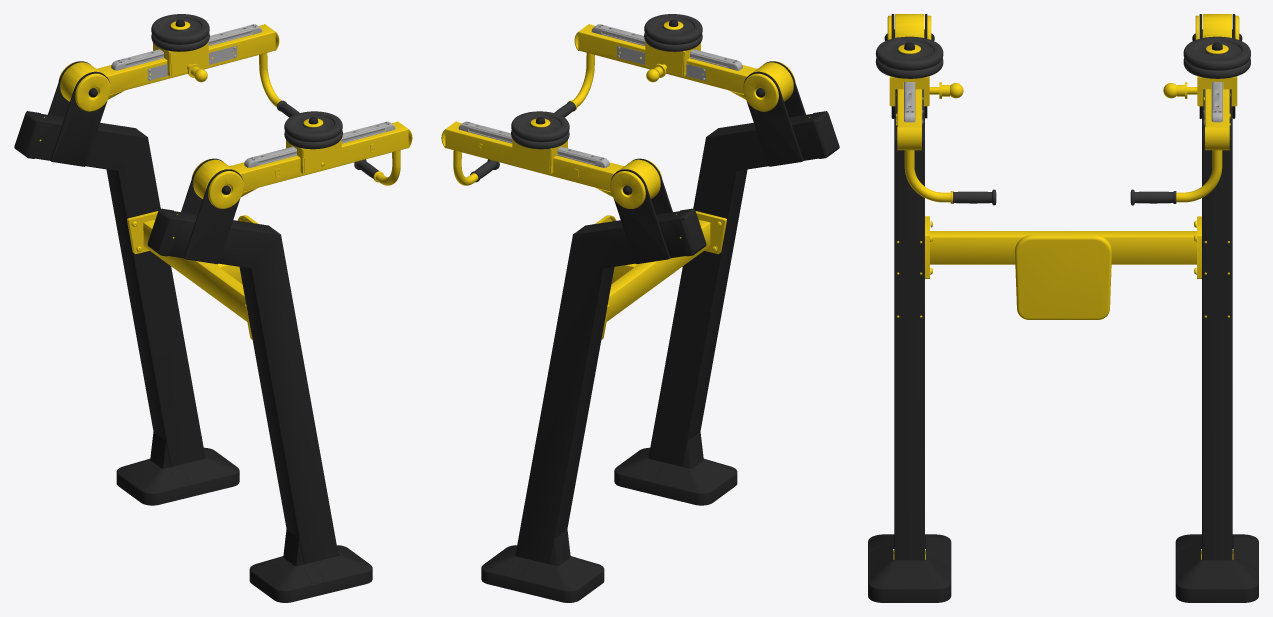
The picture shows the model from 3 angles, left to right: view 1: azimuth 30°, elevation 25°; view 2: azimuth 150°, elevation 25°; view 3: azimuth 270°, elevation 25°; orthographic projection. The views are drawn at different scales.
Visible parts, largest first — view 1: Geom3D (×3), Geom3D_005.STL#1; view 2: Geom3D (×3), Geom3D_005.STL#1; view 3: Geom3D (×3), Geom3D_005.STL#1.
Part boxes in pixels (x1,y1,x2,y2): Geom3D (×3): (14, 14, 395, 602); Geom3D_005.STL#1: (39, 21, 412, 339); Geom3D (×3): (458, 14, 839, 602); Geom3D_005.STL#1: (441, 21, 809, 339); Geom3D (×3): (868, 14, 1258, 602); Geom3D_005.STL#1: (887, 14, 1239, 559).
Bounding box in the file's own units: 1.1 × 1.92 × 1.27.
